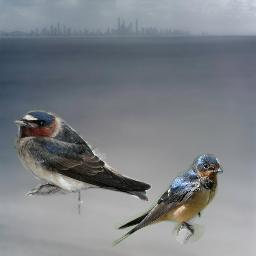Swallow: (11, 109, 153, 202), (111, 154, 223, 248)
